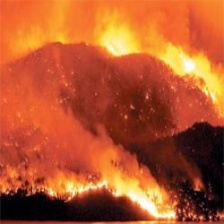fire: (98, 26, 224, 98), (61, 173, 180, 207)
smoke: (14, 97, 105, 160)
